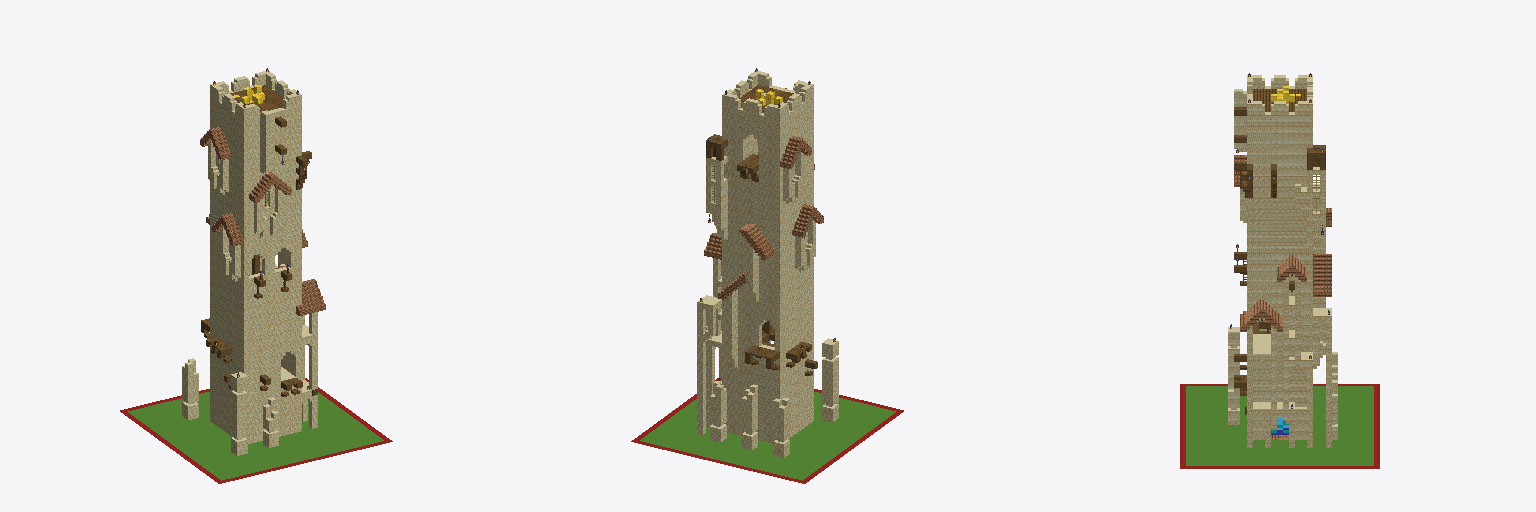
3 renders of one model, left to right at view 1: azimuth 30°, elevation 25°; view 2: azimuth 150°, elevation 25°; view 3: azimuth 270°, elevation 25°, orthographic.
Bounding box in the file's own units: 33 × 61.69 × 33.
18 materials, 11 textured.